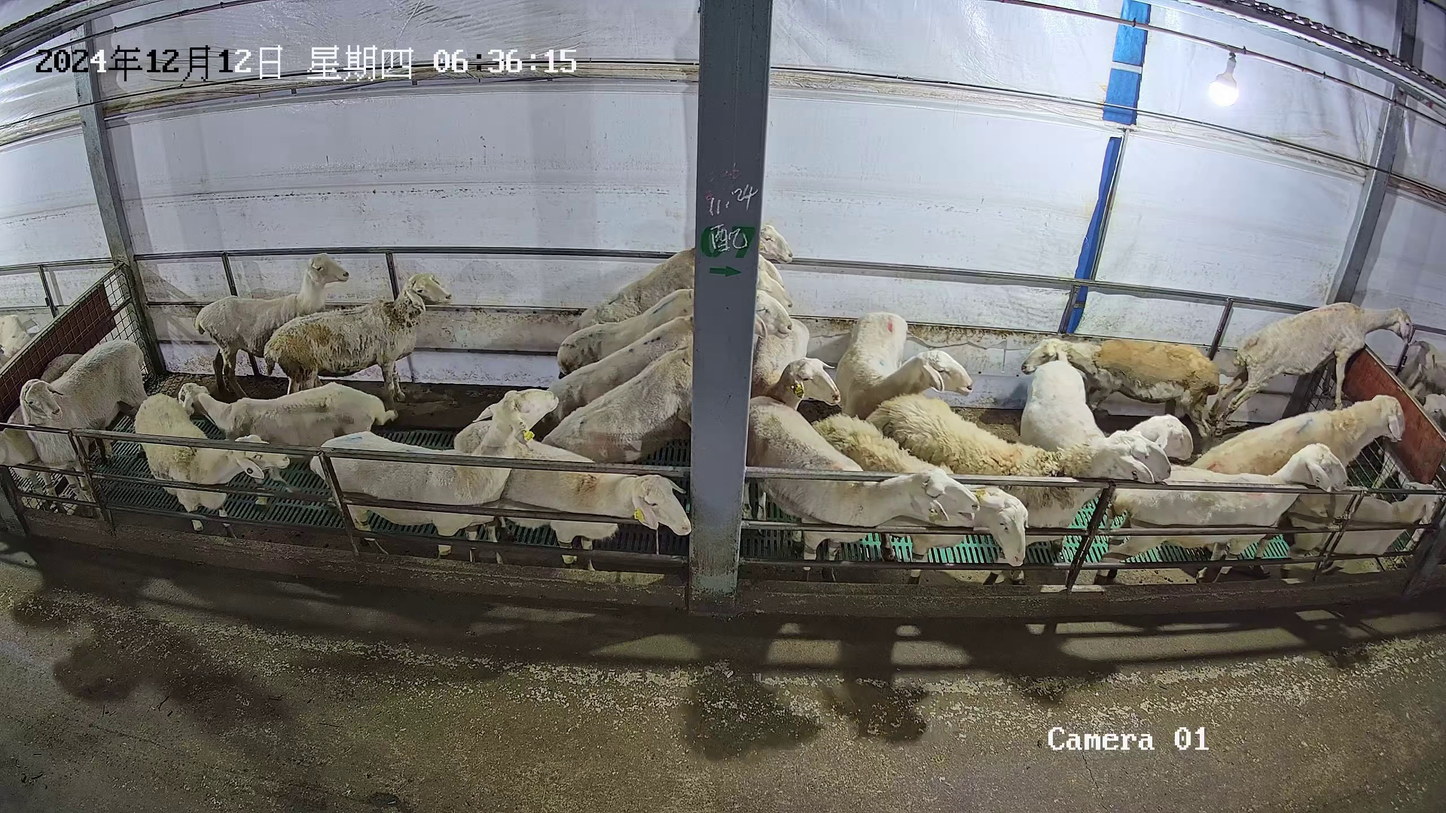Smounting: (1184, 392, 1444, 584)
mounted: (1247, 481, 1440, 582)
